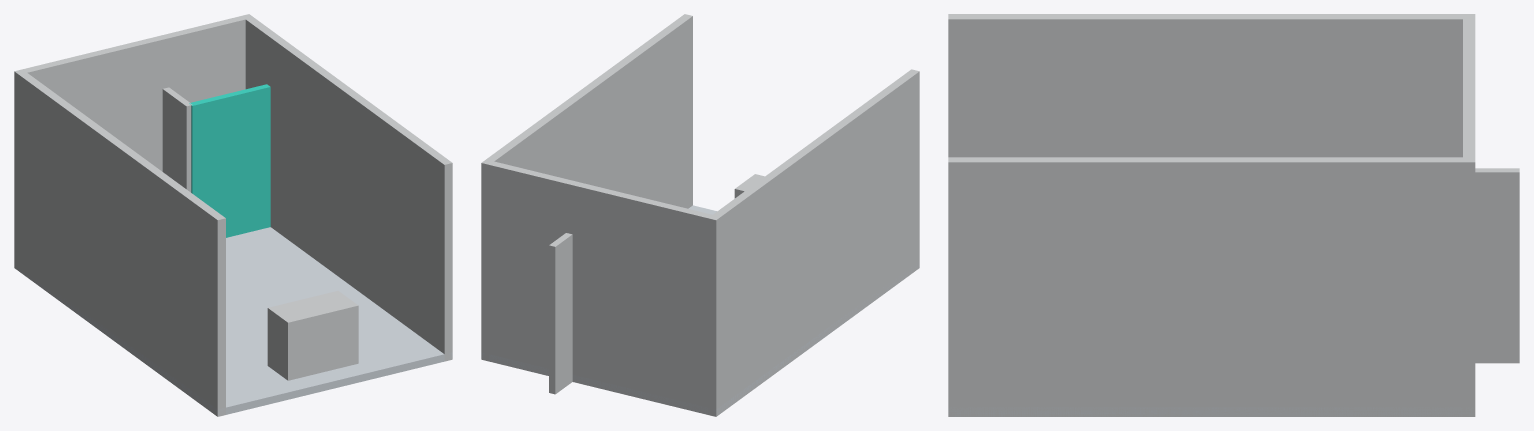
3 views of the same model, side by side, from view 1: azimuth 30°, elevation 25°; view 2: azimuth 150°, elevation 25°; view 3: azimuth 270°, elevation 25° (orthographic). The views are drawn at different scales.
Parts seen in each view (by area): view 1: Exhibition Booth Concept; view 2: Exhibition Booth Concept; view 3: Exhibition Booth Concept.
Part boxes in pixels (<box>): Exhibition Booth Concept: <box>14,14,452,416</box>; Exhibition Booth Concept: <box>481,14,919,416</box>; Exhibition Booth Concept: <box>948,14,1519,416</box>.
Bounding box in the file's own units: 4 × 3.2 × 6.51.
